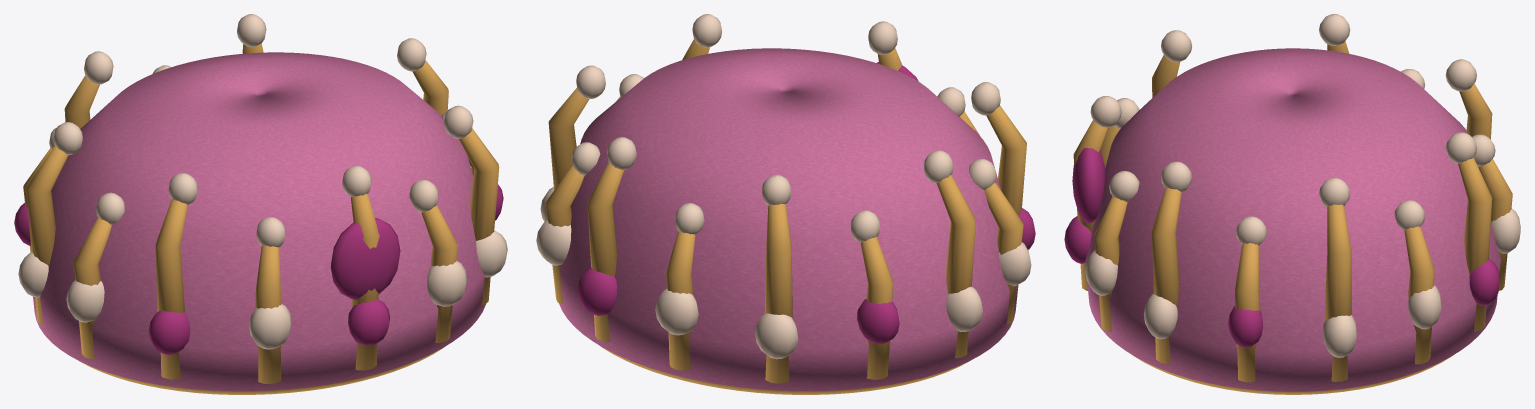
Rendered from kpop-crown.glb.
The picture shows the model from 3 angles, left to right: view 1: azimuth 30°, elevation 25°; view 2: azimuth 150°, elevation 25°; view 3: azimuth 270°, elevation 25°; orthographic projection. The views are drawn at different scales.
Visible parts, largest first — view 1: kpop-crown; view 2: kpop-crown; view 3: kpop-crown.
Part boxes in pixels (x1,y1,x2,y2): kpop-crown: (14,14,507,394); kpop-crown: (536,14,1035,394); kpop-crown: (1064,14,1520,394).
Bounding box in the file's own units: 1.31 × 0.621 × 1.22.
4 materials, 1 textured.
